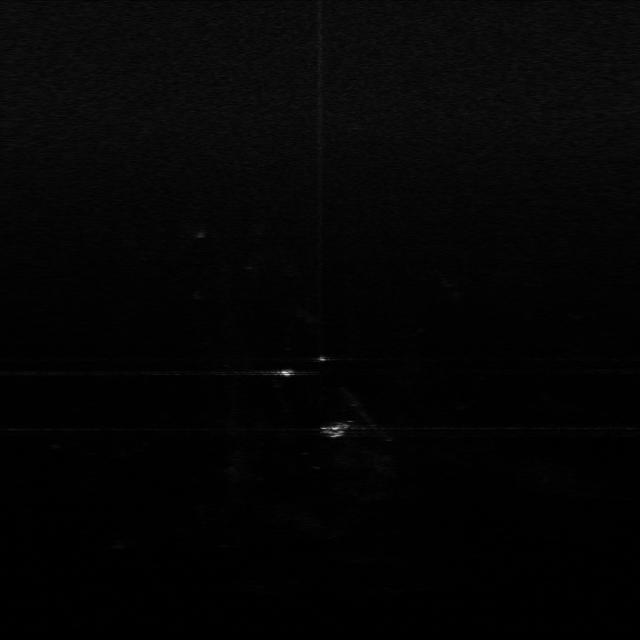rov: (314, 417, 354, 443)
